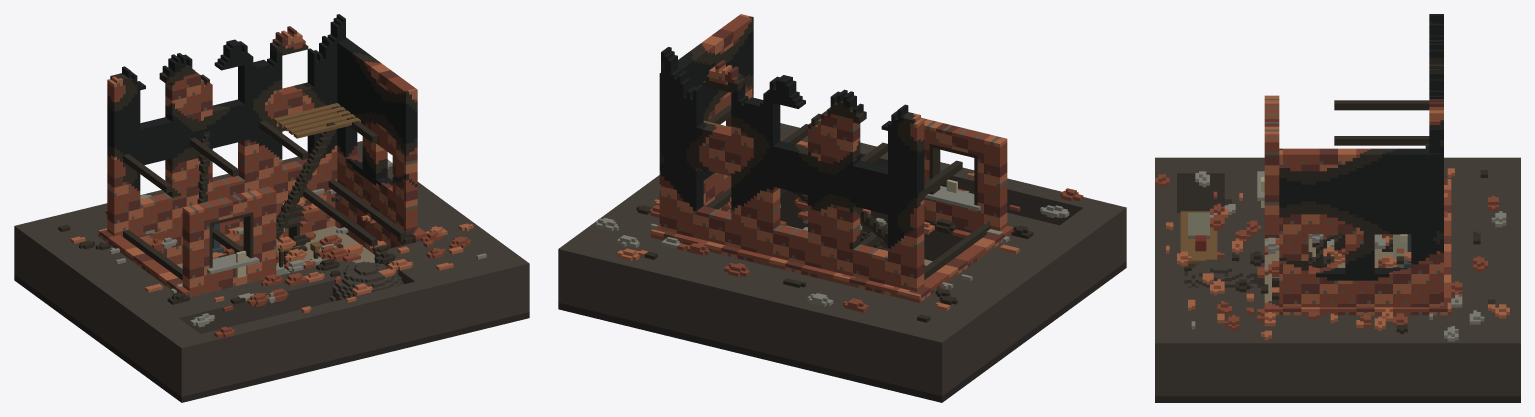
3 views of the same model, side by side, from view 1: azimuth 30°, elevation 25°; view 2: azimuth 150°, elevation 25°; view 3: azimuth 270°, elevation 25° (orthographic). The views are drawn at different scales.
Visible parts, largest first — view 1: 01_earth_and_foundation, 03_burned_two_storey_shell, 07_courtyard_trench_and_absence, 05_charred_floor_and_fallen_joists, 04_escape_window_and_closed_door, 02_cellar_retaining_walls, 06_cellar_bedding_and_supper, 08_cellar_scattered_bricks; view 2: 01_earth_and_foundation, 03_burned_two_storey_shell, 04_escape_window_and_closed_door, 07_courtyard_trench_and_absence, 02_cellar_retaining_walls, 05_charred_floor_and_fallen_joists; view 3: 01_earth_and_foundation, 03_burned_two_storey_shell, 07_courtyard_trench_and_absence, 02_cellar_retaining_walls, 05_charred_floor_and_fallen_joists, 04_escape_window_and_closed_door, 08_cellar_scattered_bricks, 06_cellar_bedding_and_supper.
Part boxes in pixels (box(x1,y1,x2,y2)): 01_earth_and_foundation: box(14, 141, 529, 402); 03_burned_two_storey_shell: box(107, 14, 417, 236); 07_courtyard_trench_and_absence: box(58, 159, 486, 337); 05_charred_floor_and_fallen_joists: box(123, 103, 406, 280); 04_escape_window_and_closed_door: box(182, 186, 276, 297); 02_cellar_retaining_walls: box(98, 189, 427, 296); 06_cellar_bedding_and_supper: box(180, 216, 322, 268); 08_cellar_scattered_bricks: box(276, 243, 362, 275); 01_earth_and_foundation: box(558, 123, 1126, 402); 03_burned_two_storey_shell: box(659, 14, 924, 291); 04_escape_window_and_closed_door: box(921, 117, 1007, 231); 07_courtyard_trench_and_absence: box(594, 141, 1083, 322); 02_cellar_retaining_walls: box(651, 206, 1013, 302); 05_charred_floor_and_fallen_joists: box(703, 105, 990, 279); 01_earth_and_foundation: box(1155, 157, 1520, 402); 03_burned_two_storey_shell: box(1279, 14, 1443, 307); 07_courtyard_trench_and_absence: box(1155, 168, 1509, 341); 02_cellar_retaining_walls: box(1264, 179, 1451, 315); 05_charred_floor_and_fallen_joists: box(1272, 100, 1429, 299); 04_escape_window_and_closed_door: box(1257, 95, 1279, 234); 08_cellar_scattered_bricks: box(1312, 234, 1403, 267); 06_cellar_bedding_and_supper: box(1393, 234, 1411, 267).
Bounding box in the file's own units: 12 × 7.3 × 10.
